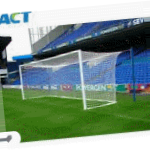goals: (16, 49, 119, 113)
